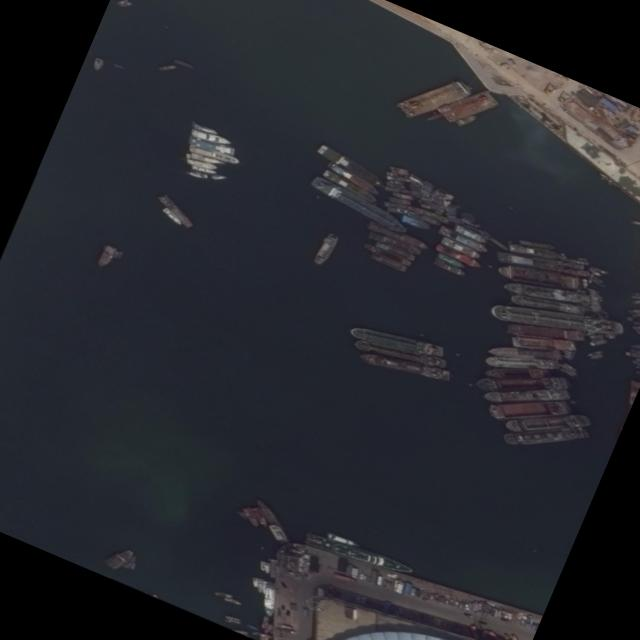ship: (308, 174, 409, 235), (302, 531, 413, 576), (492, 304, 622, 334), (314, 142, 385, 189), (395, 80, 472, 118), (350, 325, 441, 357), (353, 338, 444, 369), (359, 350, 448, 381), (497, 263, 582, 292), (320, 168, 378, 204), (435, 90, 498, 122), (502, 281, 589, 304), (366, 220, 429, 251), (326, 161, 380, 196), (485, 400, 573, 420), (502, 413, 590, 432), (502, 426, 589, 445), (437, 225, 489, 254), (252, 498, 287, 540), (510, 294, 583, 314), (496, 250, 562, 272), (366, 230, 420, 256), (505, 323, 583, 341), (474, 376, 568, 390), (157, 194, 194, 228), (481, 388, 570, 402), (434, 243, 481, 269), (362, 242, 410, 267), (187, 144, 239, 165), (440, 236, 482, 260), (485, 346, 561, 359), (510, 336, 575, 351), (187, 135, 233, 156), (311, 232, 339, 266), (483, 356, 558, 368), (374, 240, 414, 261), (406, 204, 448, 224), (508, 243, 559, 259), (369, 252, 406, 272), (452, 223, 487, 244), (104, 546, 134, 570), (483, 368, 551, 378), (190, 129, 230, 146), (432, 258, 466, 277), (93, 244, 116, 269), (406, 211, 440, 227), (435, 251, 465, 269), (326, 532, 359, 548), (190, 152, 224, 167), (400, 214, 430, 230), (262, 581, 274, 617), (240, 507, 260, 527), (250, 507, 269, 527), (161, 207, 181, 225), (518, 240, 554, 250), (186, 158, 216, 170), (488, 237, 508, 251), (454, 114, 477, 126), (419, 199, 444, 210), (562, 267, 589, 276), (193, 124, 217, 134), (419, 203, 443, 213), (120, 556, 138, 569), (557, 363, 576, 375), (383, 186, 410, 194), (191, 165, 215, 174), (386, 175, 410, 183), (173, 59, 192, 69), (388, 196, 409, 205), (383, 201, 406, 209), (187, 170, 206, 179), (564, 258, 588, 265), (562, 261, 583, 269), (391, 192, 412, 200), (223, 597, 241, 606), (386, 206, 406, 214), (385, 171, 407, 178), (92, 57, 103, 71), (589, 277, 604, 287), (589, 266, 606, 274), (214, 590, 231, 598), (588, 339, 607, 346), (562, 362, 576, 371), (259, 615, 268, 629), (624, 351, 640, 358), (224, 615, 240, 622), (389, 166, 407, 172), (386, 183, 404, 189), (386, 179, 403, 185), (586, 350, 602, 356), (157, 65, 176, 70), (587, 268, 600, 275), (390, 170, 408, 175), (224, 618, 239, 624), (626, 316, 640, 322), (630, 359, 640, 367), (589, 353, 602, 359), (256, 578, 261, 593), (119, 1, 131, 7), (592, 276, 602, 283), (629, 348, 640, 354), (589, 296, 601, 301), (588, 334, 603, 338), (264, 562, 269, 574), (210, 175, 225, 179), (115, 0, 127, 5), (588, 294, 602, 298), (590, 337, 604, 341), (260, 580, 264, 594), (581, 278, 586, 289), (586, 288, 597, 293), (251, 576, 256, 587), (627, 309, 640, 313), (563, 352, 573, 357), (562, 354, 572, 359), (630, 220, 640, 225), (630, 291, 640, 296), (587, 305, 599, 309), (562, 350, 574, 354), (632, 325, 640, 331), (113, 63, 122, 68), (259, 560, 263, 571), (588, 291, 598, 295), (588, 308, 598, 312), (630, 295, 640, 299), (576, 257, 586, 261), (590, 301, 599, 305), (631, 300, 640, 304), (631, 313, 640, 317), (434, 211, 443, 215), (633, 321, 640, 326), (629, 345, 640, 348), (604, 335, 614, 338), (591, 304, 600, 307), (635, 358, 640, 361)
